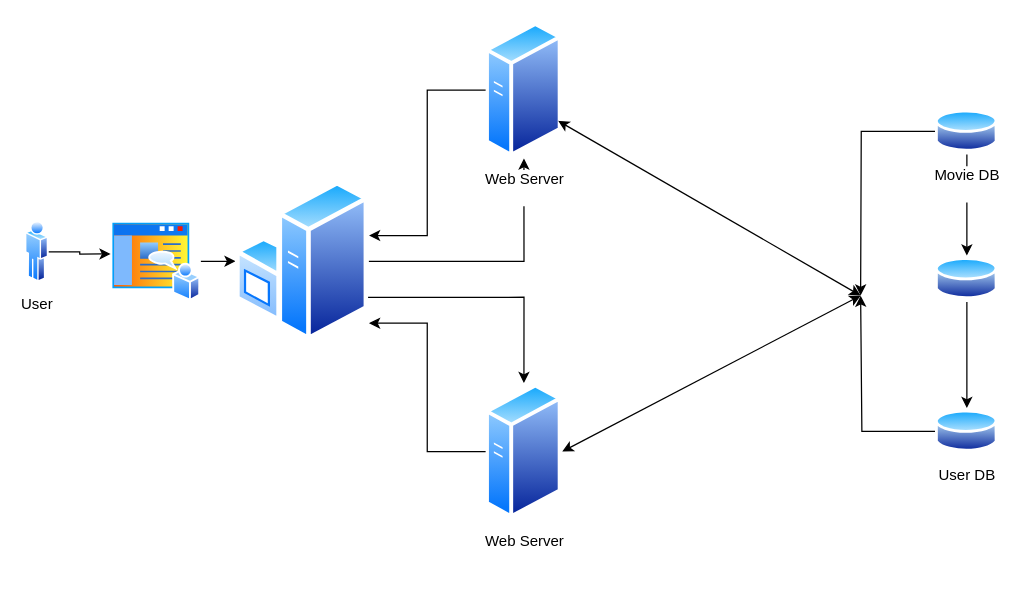
This 1021x590 diagram has some shape labels left out. Here are the shapes that lost their labels. From the top down, the box of each, then its label:
(110, 220, 200, 301): Customer website
(235, 179, 368, 342): Load Balancer
(935, 255, 998, 301): Seat DB
